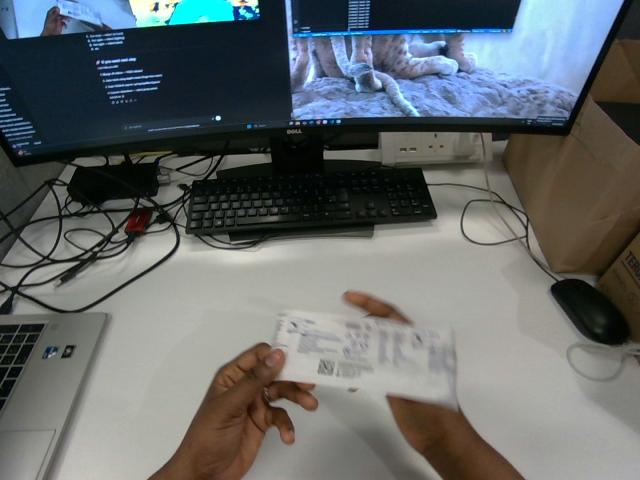gallipot: (272, 311, 456, 406)
